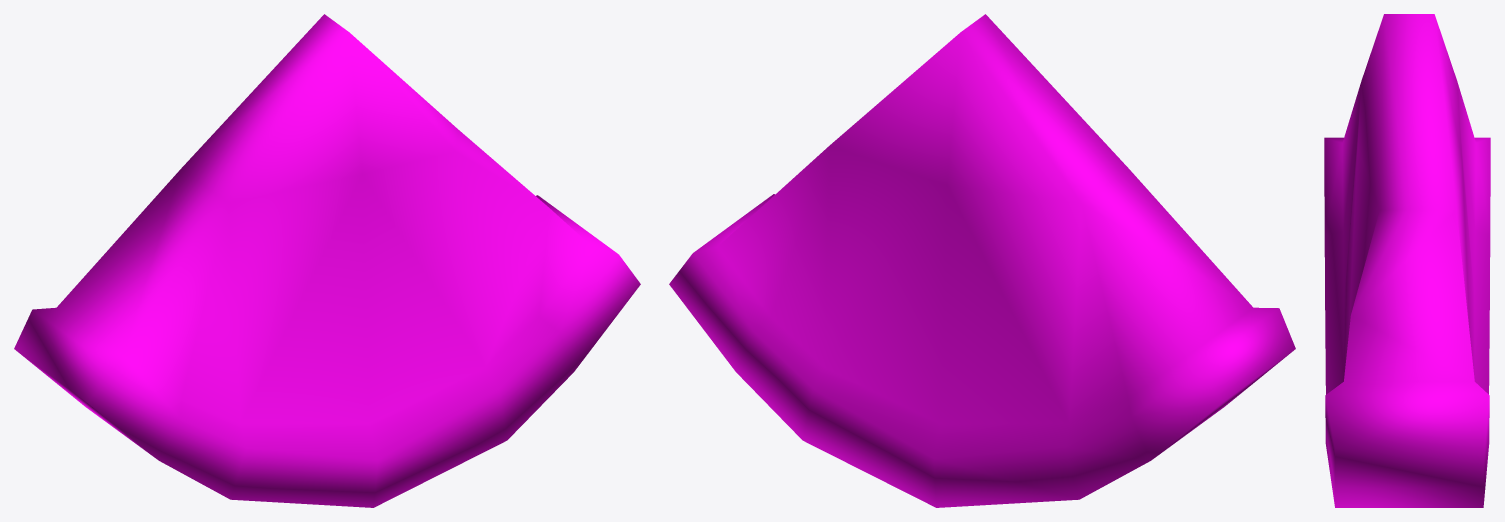
File: melon_meshCollider.fbx
The picture shows the model from 3 angles, left to right: view 1: azimuth 30°, elevation 25°; view 2: azimuth 150°, elevation 25°; view 3: azimuth 270°, elevation 25°; orthographic projection.
Visible parts, largest first — view 1: foods_melon_meshCollider; view 2: foods_melon_meshCollider; view 3: foods_melon_meshCollider.
Part boxes in pixels (x1,y1,x2,y2): foods_melon_meshCollider: (14, 14, 640, 507); foods_melon_meshCollider: (669, 14, 1295, 507); foods_melon_meshCollider: (1324, 14, 1490, 507).
Size of the model in its own units: 14.73 by 11.65 by 3.8.
